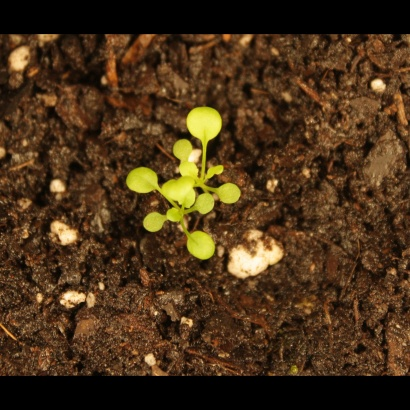leaf: (185, 101, 227, 146), (122, 161, 163, 197), (179, 229, 220, 264), (161, 177, 200, 205), (216, 180, 247, 211), (139, 208, 167, 235), (169, 136, 196, 162), (193, 192, 220, 218), (166, 206, 189, 229), (180, 158, 203, 181), (203, 162, 226, 185)
